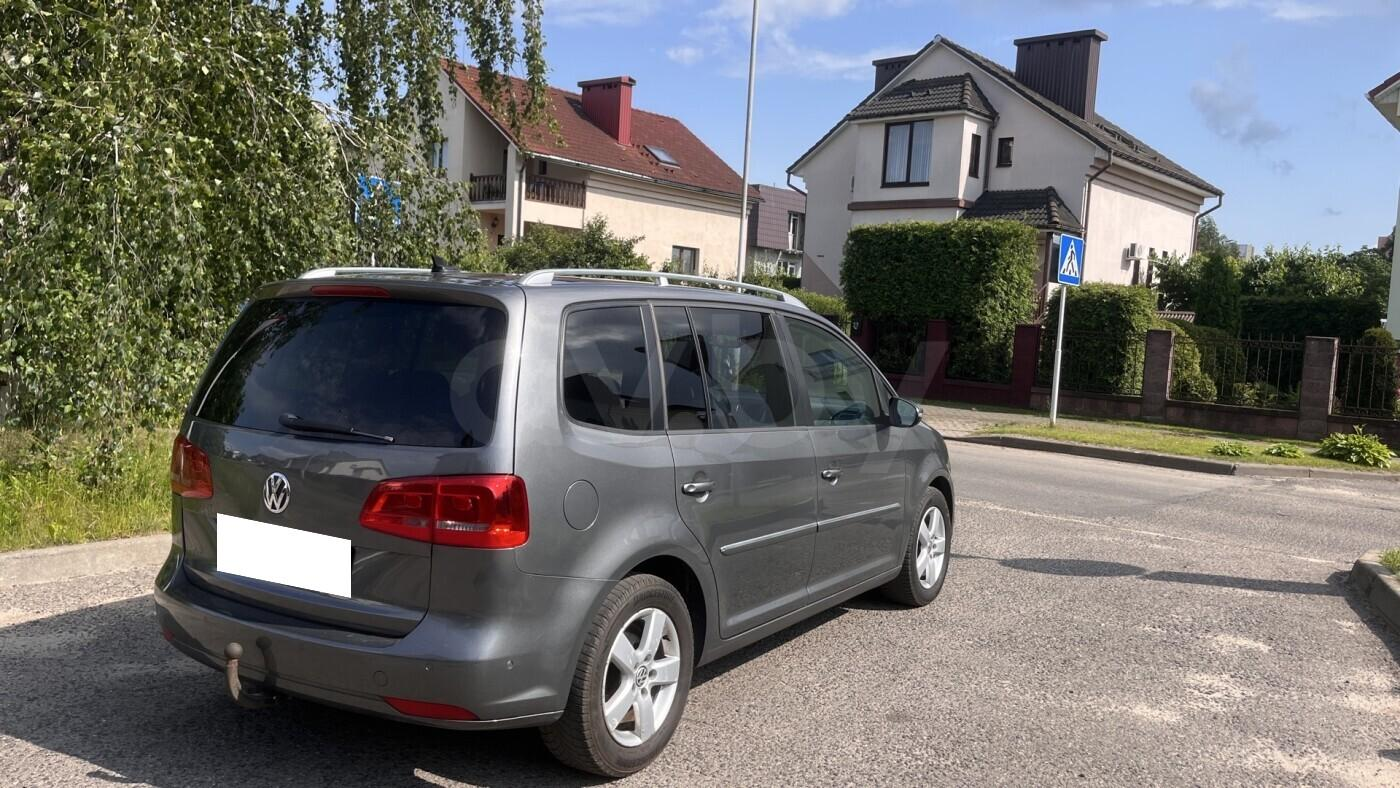Touran_2010-2015: (145, 258, 961, 788)
